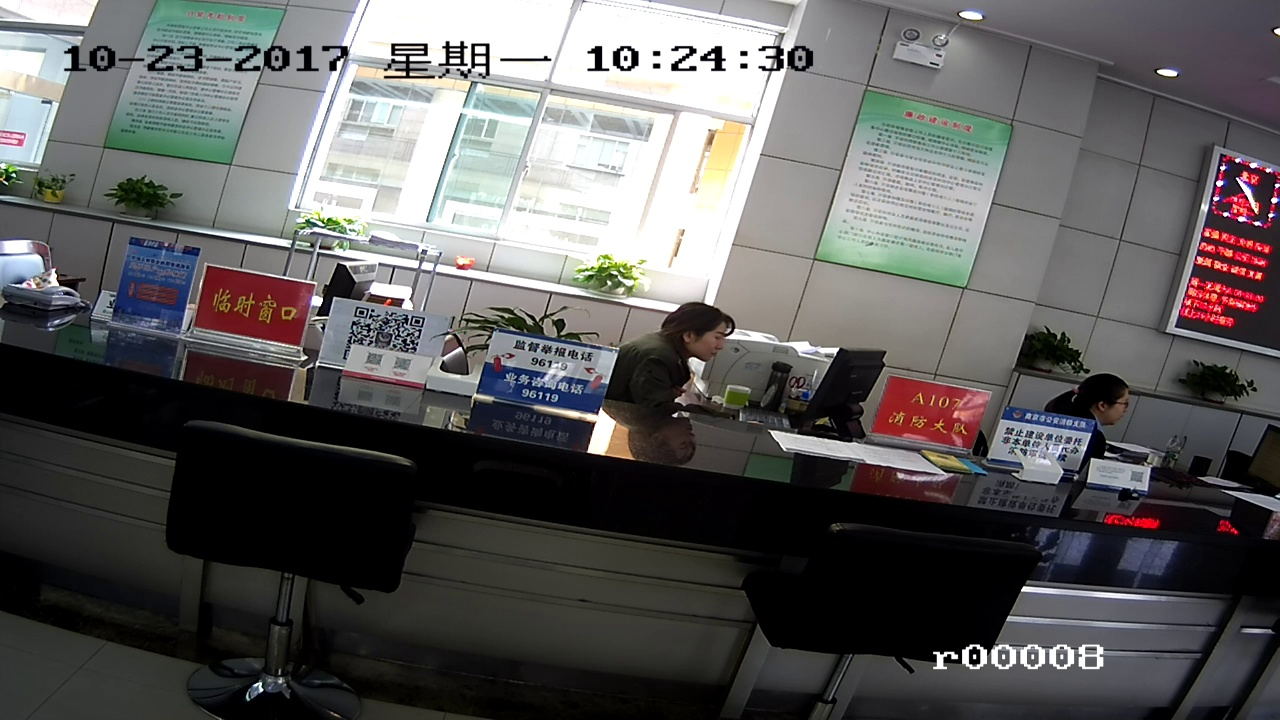billboard: (858, 95, 990, 295), (142, 6, 244, 162), (202, 269, 305, 346), (496, 338, 601, 413), (888, 380, 984, 462)
chair: (161, 429, 425, 718), (733, 524, 1044, 717)
monitor: (803, 346, 874, 435)
person: (656, 305, 731, 371), (1077, 371, 1140, 422)
pot: (1186, 365, 1253, 405), (1028, 324, 1082, 367), (576, 259, 638, 295), (112, 176, 153, 218), (35, 174, 76, 204), (303, 217, 343, 247)
